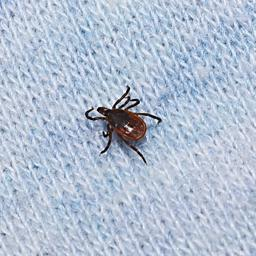Ixodes scapularis: (84, 87, 163, 163)
